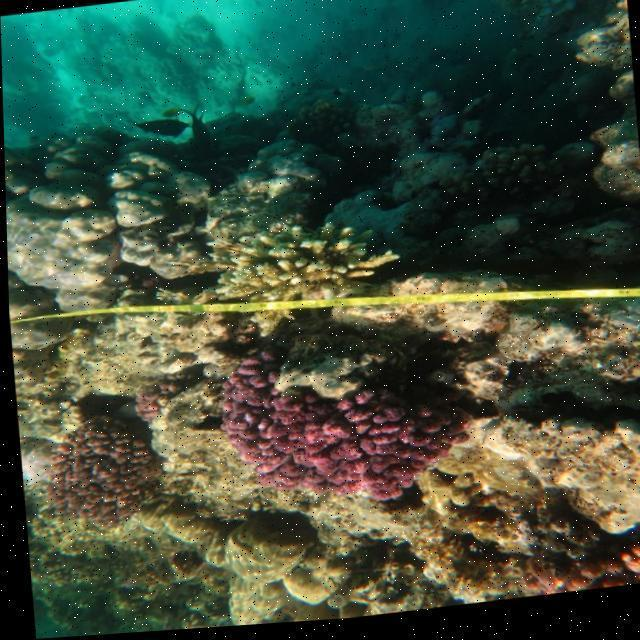Healthy Coral: (220, 378, 474, 522)
